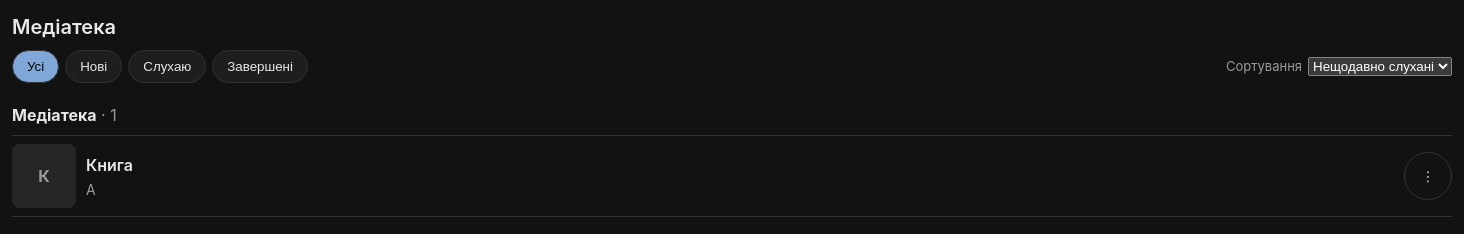
Test: Library › an empty filter shows the honest empty row, not the empty-library state
This screenshot has width=1464, height=234.
Expected: the text "Книга" is shown, [86,152,133,176]
Click the button "Завершені" at (260,66), box [212,50,308,83]
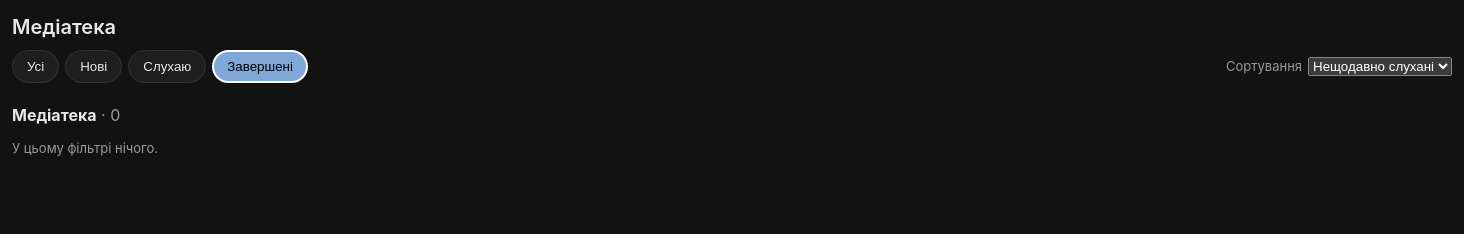
Expected: the text "У цьому фільтрі нічого." is shown, [12,140,158,156]
